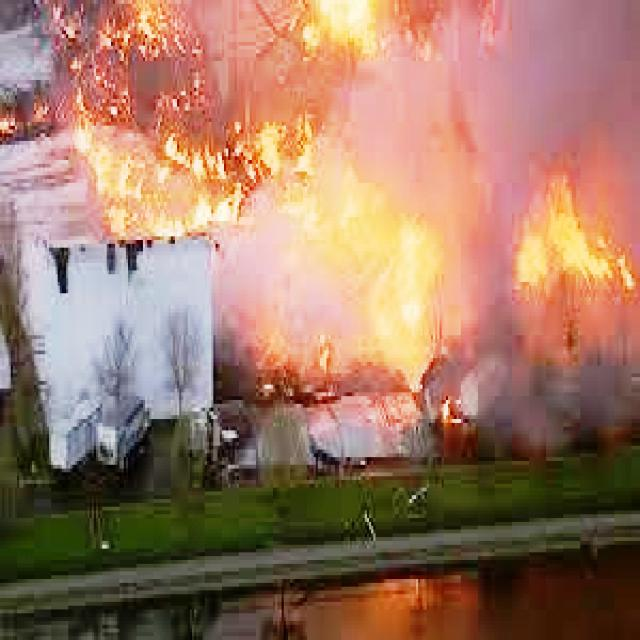api: (59, 12, 313, 260), (321, 157, 460, 397), (492, 154, 639, 333)
